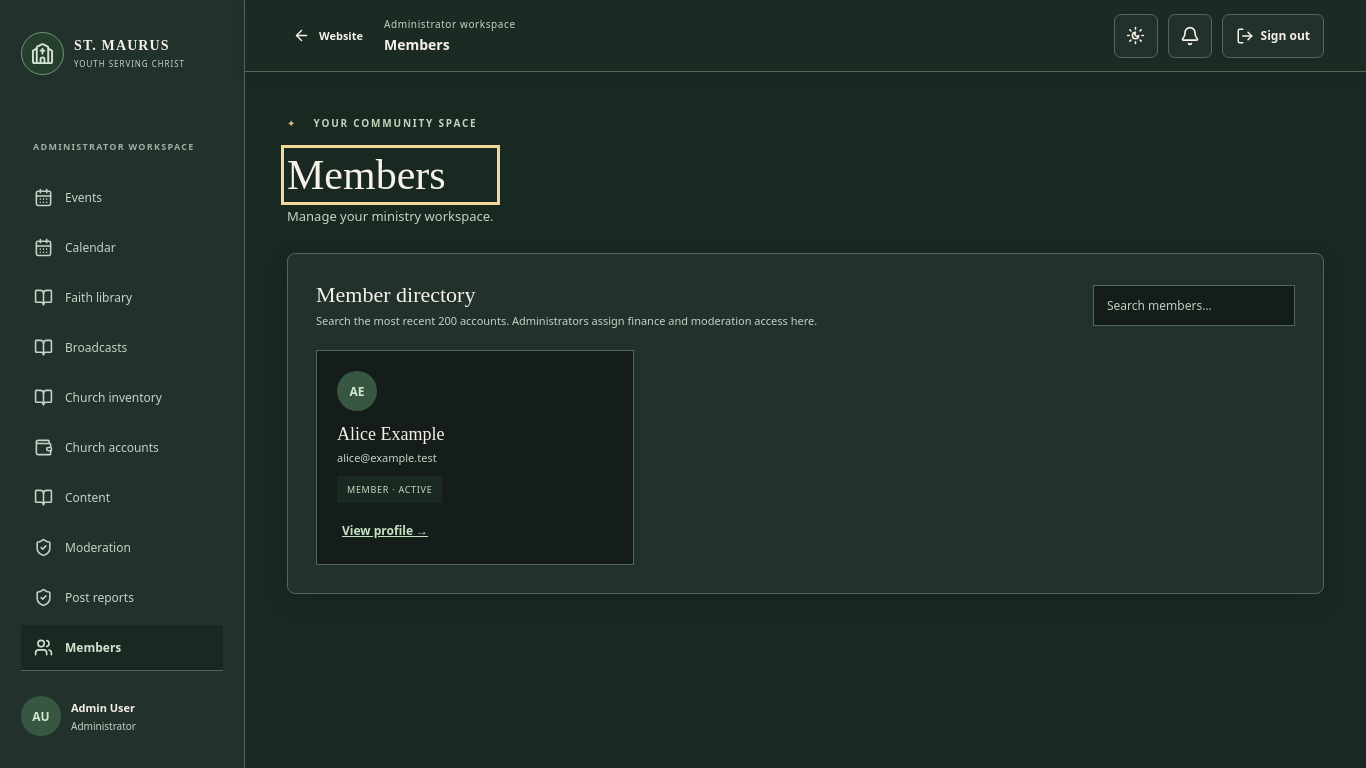
it: administrator church accounts › requires a password for administrator member suspension
This screenshot has width=1366, height=768.
Earlier steps of the test are not shown.
Later steps or results of the test are not shown.
(page scrolled)
expect the heading "Alice Example" is shown: met, box 337,424 -> 444,444
Click the button "View profile →" at (385, 530), box 337,517 -> 433,544
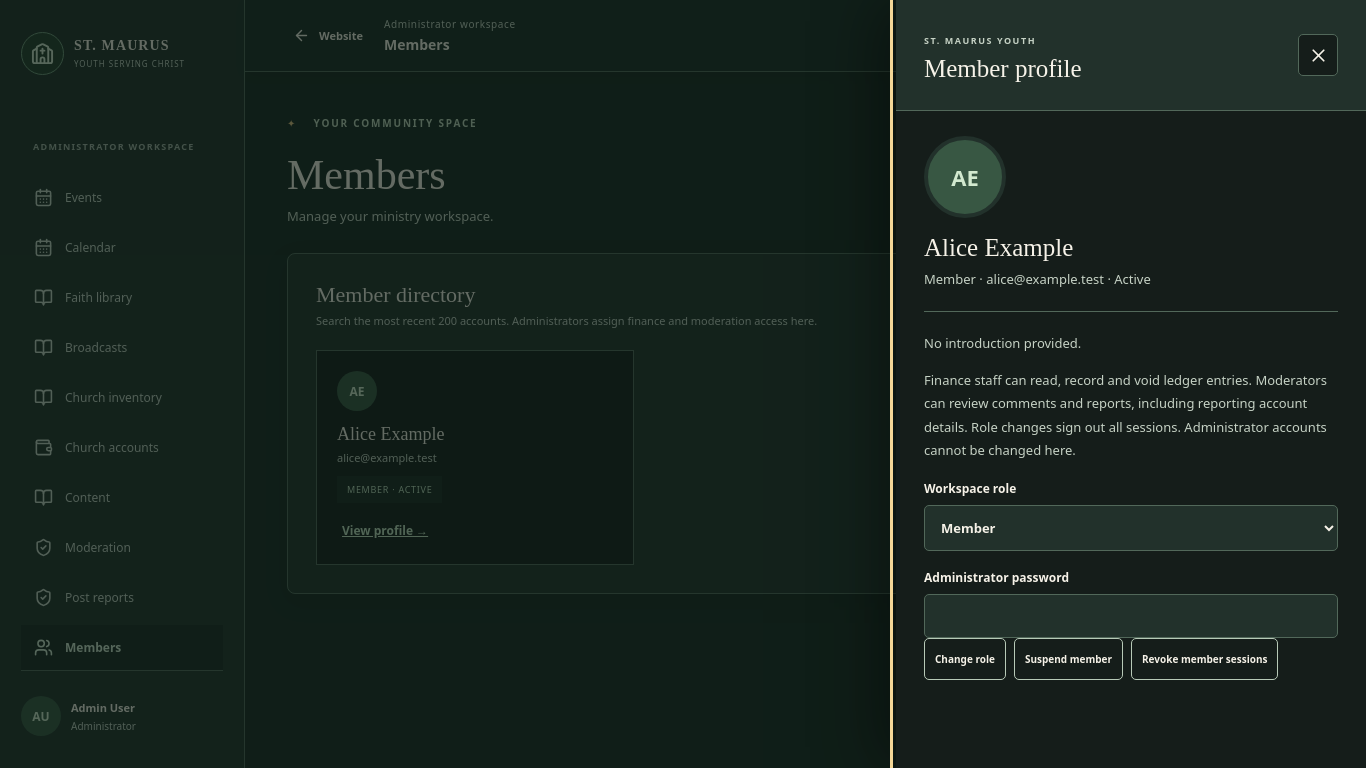
expect the password field labelled "Administrator password" is shown: met, box 924,594 -> 1338,638
Click the button "Suspend member" at (1068, 659), box 1014,638 -> 1123,680
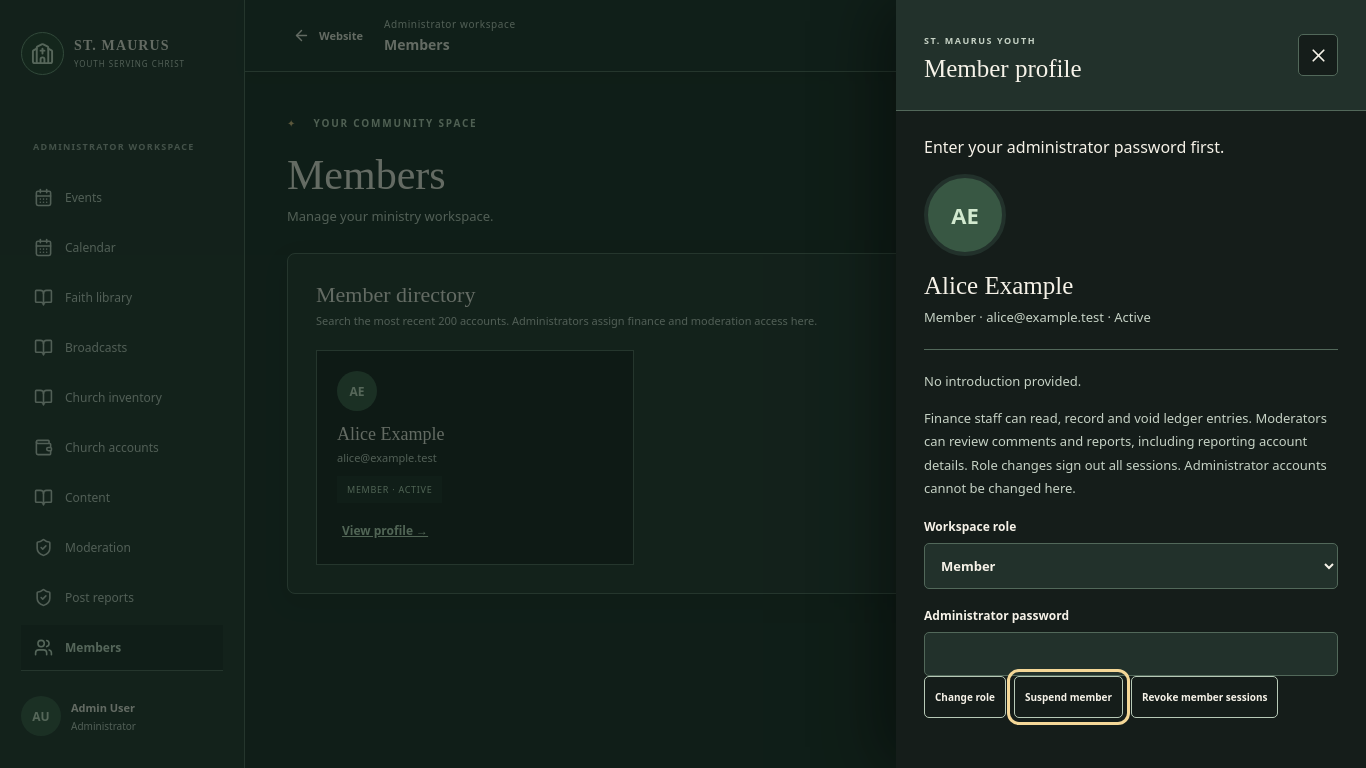
expect the text "Enter your administrator password first." is shown: met, box 924,136 -> 1224,158
